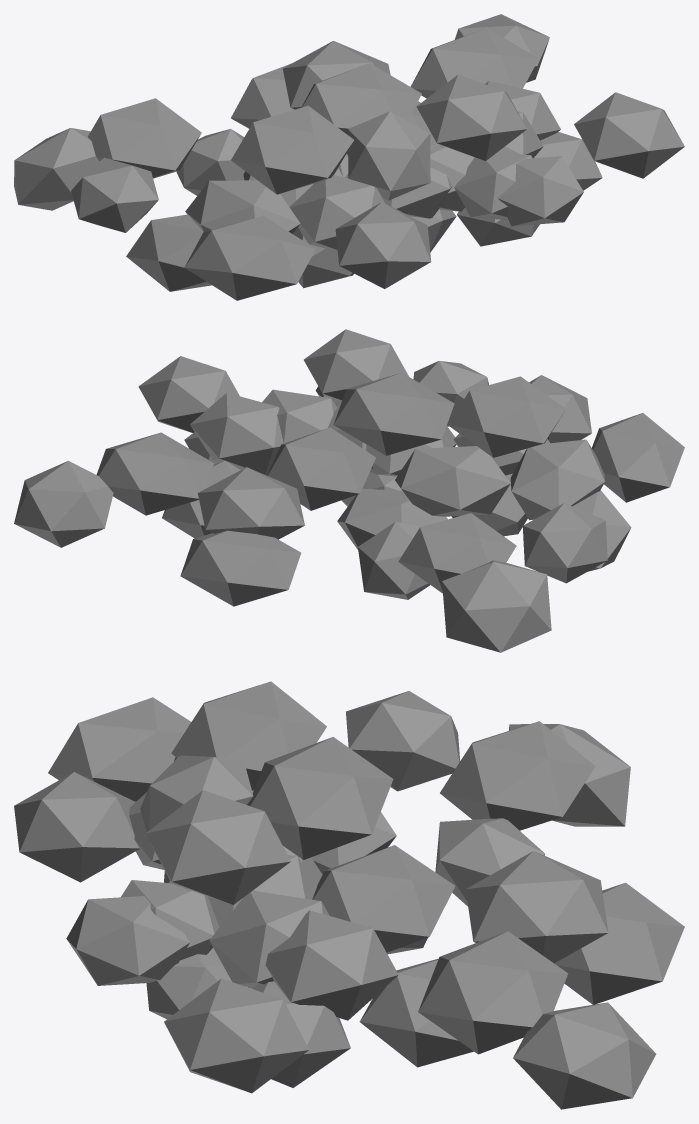
Rendered from Desert_Obstacle01.fbx.
3 renders of one model, top to bottom at view 1: azimuth 30°, elevation 25°; view 2: azimuth 150°, elevation 25°; view 3: azimuth 270°, elevation 25°, orthographic. The views are drawn at different scales.
Parts seen in each view (by area): view 1: Desert_Obstacle01Source, Desert_Obstacle01, Desert_Obstacle01Destroyed; view 2: Desert_Obstacle01, Desert_Obstacle01Source, Desert_Obstacle01Destroyed; view 3: Desert_Obstacle01Source, Desert_Obstacle01, Desert_Obstacle01Destroyed.
Part boxes in pixels (left/top/right/bottom): Desert_Obstacle01Source: left=71, top=28, right=684, bottom=300; Desert_Obstacle01: left=185, top=63, right=543, bottom=251; Desert_Obstacle01Destroyed: left=14, top=14, right=602, bottom=291; Desert_Obstacle01: left=262, top=329, right=604, bottom=520; Desert_Obstacle01Source: left=96, top=356, right=684, bottom=593; Desert_Obstacle01Destroyed: left=14, top=432, right=631, bottom=652; Desert_Obstacle01Source: left=14, top=691, right=608, bottom=1093; Desert_Obstacle01: left=121, top=681, right=455, bottom=987; Desert_Obstacle01Destroyed: left=146, top=724, right=684, bottom=1109.
Size of the model in its own units: 2.32 by 0.6631 by 1.9.
